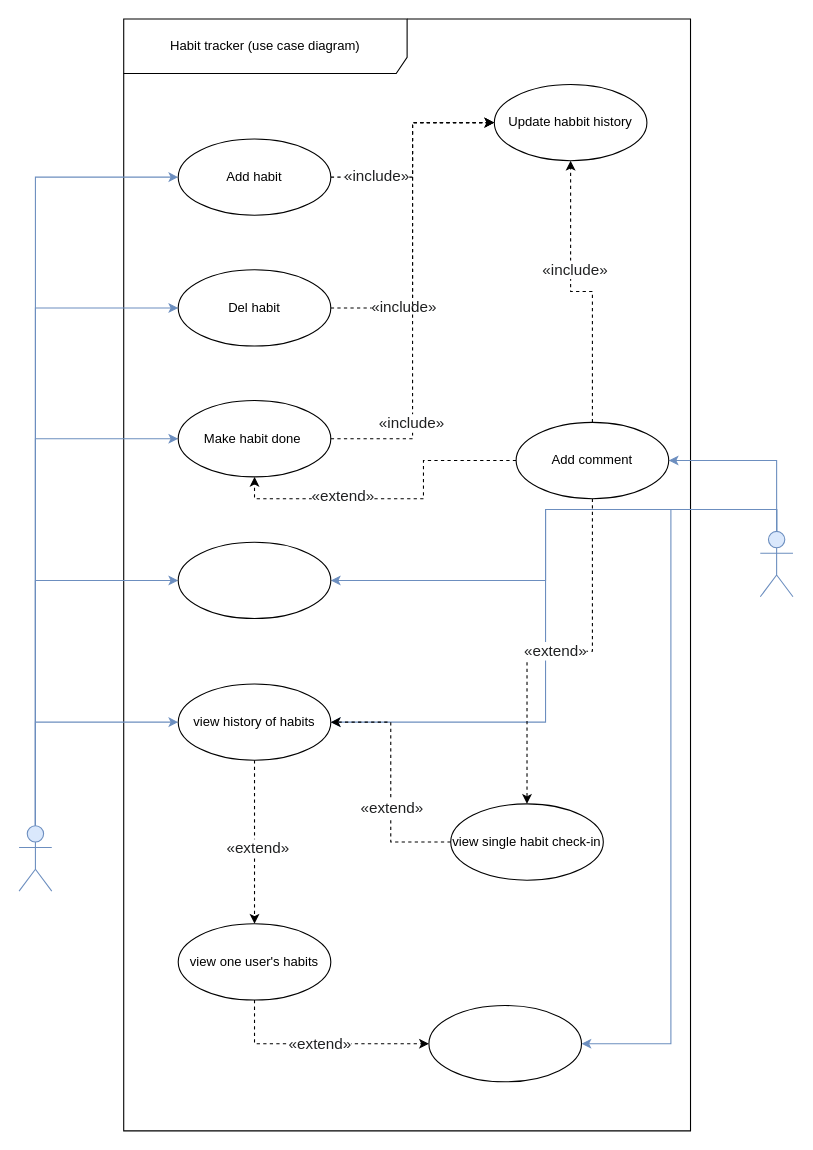
The diagram is 813 pixels wide and 1150 high, and some of its shapes have lost their labels. Each missing label, with the centre of its shape:
coach: (x=776, y=563)
list all users: (x=505, y=1043)
list habits: (x=254, y=580)
user: (x=35, y=858)
